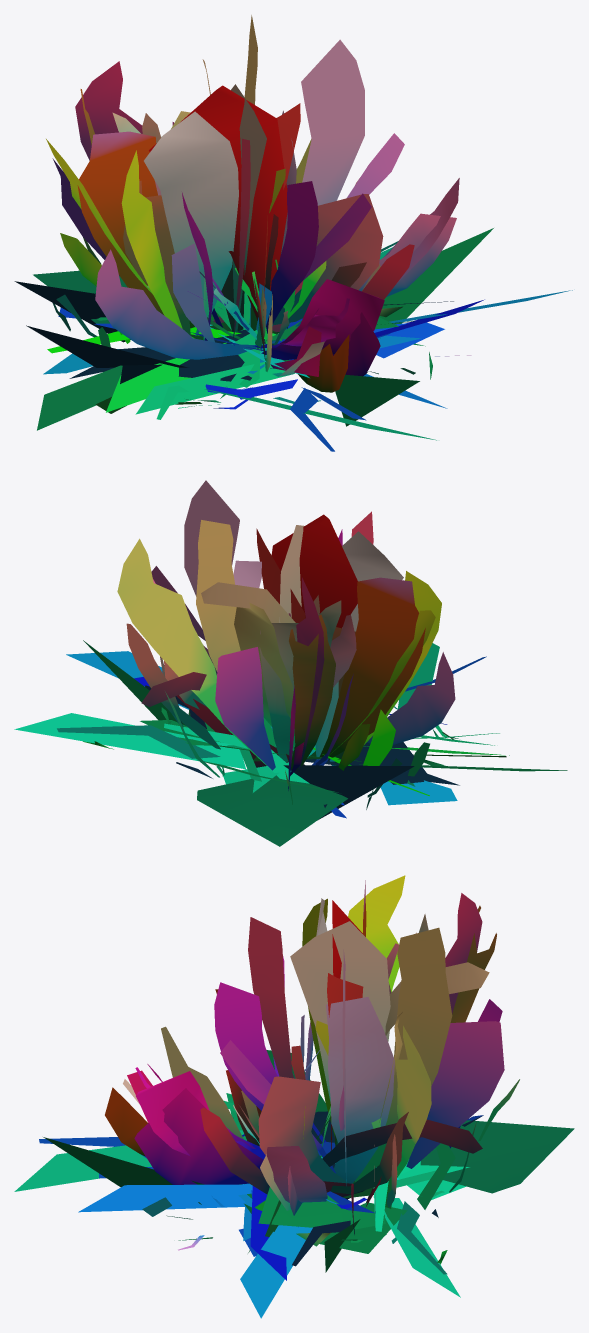
File: Dead_Shrubs_vdknafgha_Low_vdknafgha_VarG_LOD2.fbx
3 views of the same model, one above another, from view 1: azimuth 30°, elevation 25°; view 2: azimuth 150°, elevation 25°; view 3: azimuth 270°, elevation 25° (orthographic). The views are drawn at different scales.
Visible parts, largest first — view 1: _y0ej_VarG_LOD3; view 2: _y0ej_VarG_LOD3; view 3: _y0ej_VarG_LOD3.
Boxes of the visible parts, x1,y1,x2,y2 form: _y0ej_VarG_LOD3: [14, 15, 572, 451]; _y0ej_VarG_LOD3: [14, 480, 567, 846]; _y0ej_VarG_LOD3: [14, 875, 574, 1318].
Bounding box in the file's own units: 128 × 66.29 × 111.
